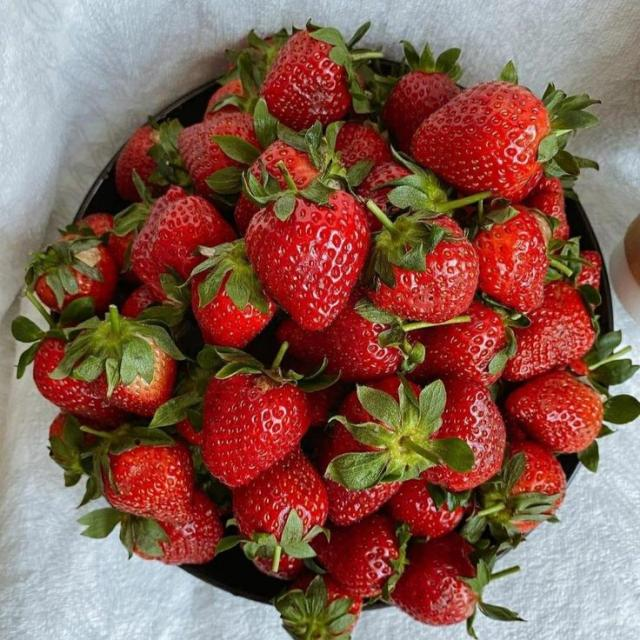strawberry: (412, 64, 597, 199), (326, 378, 491, 490), (246, 191, 369, 330), (202, 348, 310, 486), (50, 306, 183, 416), (367, 203, 479, 322), (392, 533, 520, 637), (233, 449, 327, 579), (261, 28, 380, 130), (277, 289, 403, 381), (132, 187, 234, 300), (463, 440, 566, 545), (79, 489, 223, 564), (93, 426, 193, 523), (423, 379, 506, 492), (504, 281, 595, 381), (191, 240, 275, 347), (409, 300, 514, 385), (382, 42, 461, 153), (34, 338, 126, 426), (474, 206, 548, 313), (506, 372, 603, 453), (393, 534, 477, 625), (204, 30, 288, 119), (26, 234, 119, 313), (314, 514, 399, 597), (178, 111, 259, 196), (134, 490, 223, 564), (115, 120, 190, 201), (274, 573, 362, 639), (388, 479, 464, 538), (249, 140, 319, 190), (73, 213, 133, 271), (327, 478, 399, 526), (326, 479, 399, 526), (49, 412, 95, 486), (115, 125, 158, 201), (523, 176, 569, 240), (356, 161, 411, 214), (336, 122, 392, 168), (308, 381, 348, 427), (204, 77, 246, 119), (120, 285, 157, 318), (576, 251, 602, 289), (175, 418, 203, 446)
